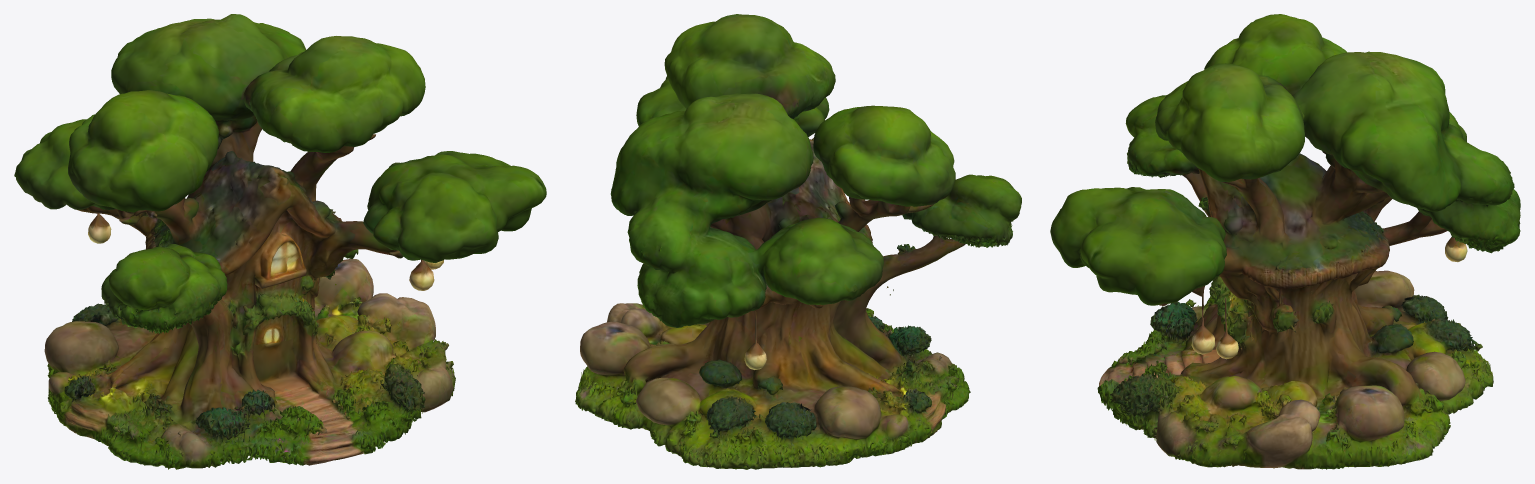
Rendered from giant-tree.glb.
3 renders of one model, left to right at view 1: azimuth 30°, elevation 25°; view 2: azimuth 150°, elevation 25°; view 3: azimuth 270°, elevation 25°, orthographic. The views are drawn at different scales.
Visible parts, largest first — view 1: Mesh_0; view 2: Mesh_0; view 3: Mesh_0.
Part boxes in pixels (<box>): Mesh_0: <box>14,14,546,469</box>; Mesh_0: <box>575,14,1021,469</box>; Mesh_0: <box>1050,14,1520,469</box>.
Bounding box in the file's own units: 1.93 × 1.63 × 1.98.
1 material, 1 textured.
